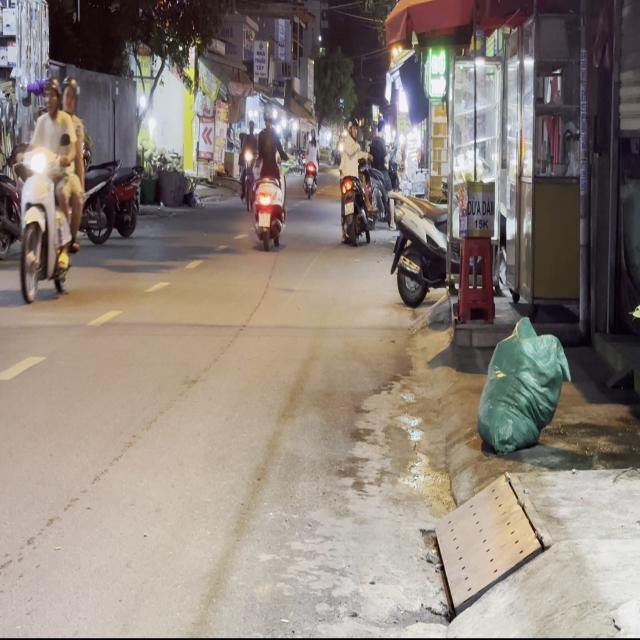helmet: (42, 76, 60, 113), (60, 75, 78, 112)
licenseplate: (15, 73, 84, 303)
